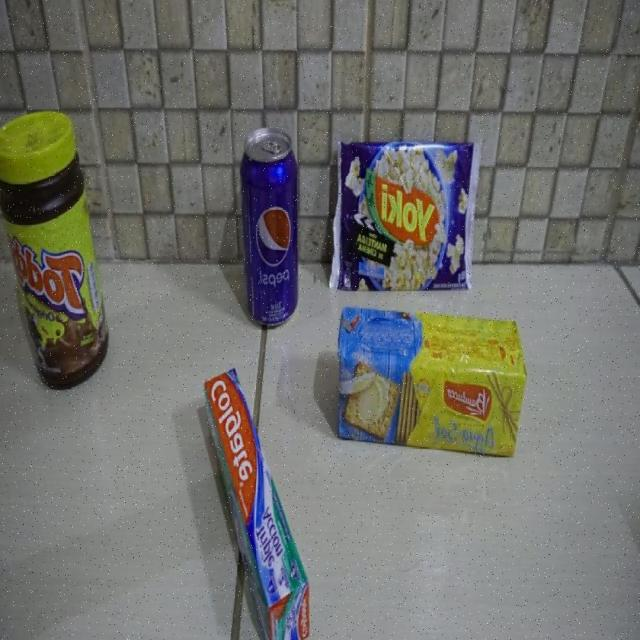ChocolatePowder: (0, 109, 114, 394)
Cracker: (333, 305, 527, 461)
Popcorn: (328, 134, 485, 293)
SodaCan: (240, 126, 304, 324)
Toothpaste: (202, 367, 312, 640)
